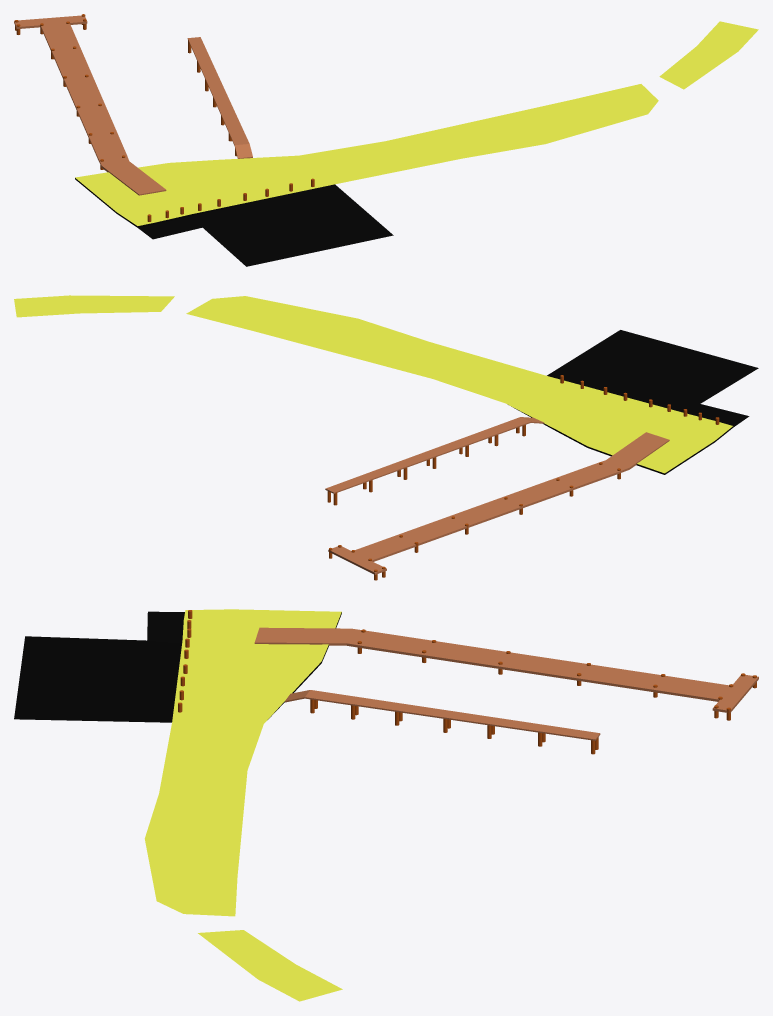
The model's file is littlebeach8.glb.
3 views of the same model, one above another, from view 1: azimuth 30°, elevation 25°; view 2: azimuth 150°, elevation 25°; view 3: azimuth 270°, elevation 25° (orthographic). The views are drawn at different scales.
Parts seen in each view (by area): view 1: Cylinder.007; view 2: Cylinder.007; view 3: Cylinder.007.
Part boxes in pixels (x1,y1,x2,y2): Cylinder.007: (14, 14, 758, 266); Cylinder.007: (14, 295, 758, 580); Cylinder.007: (14, 609, 758, 1001).
Bounding box in the file's own units: 0.3933 × 0.00753 × 0.3172.
